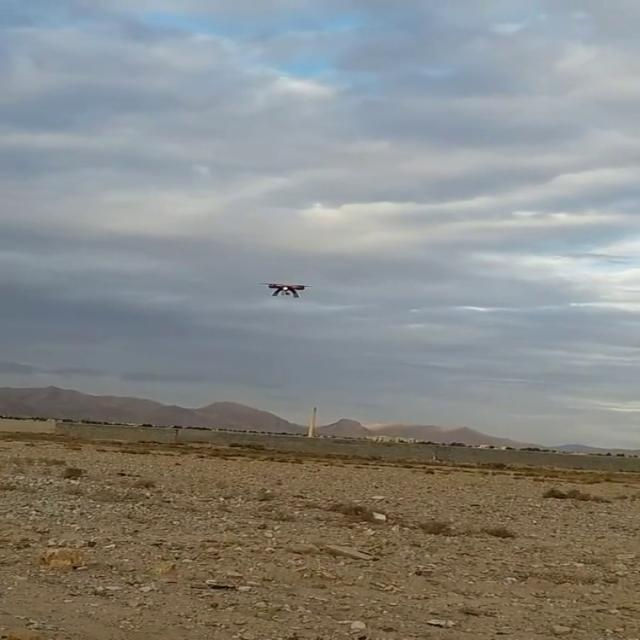drone: (256, 278, 314, 302)
